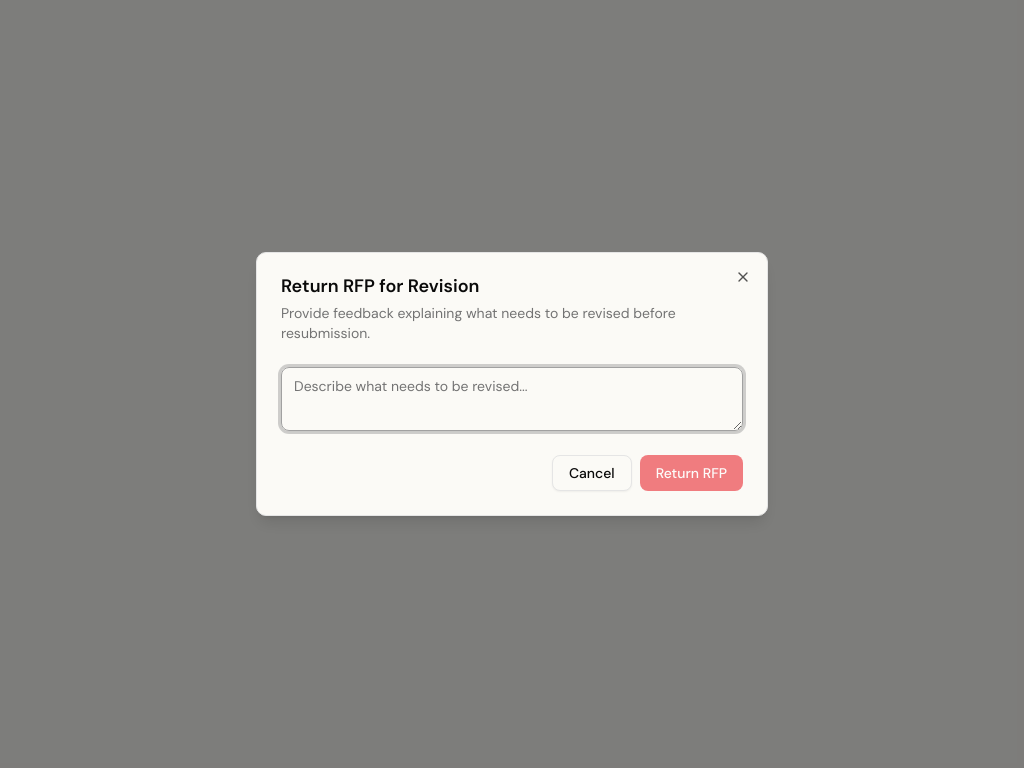
Test: ReturnComments › validation › submit button is enabled after typing comments
Type "Needs more detail" into the text box with test id "return-comments-input" at (512, 399), box [281,367,743,431]
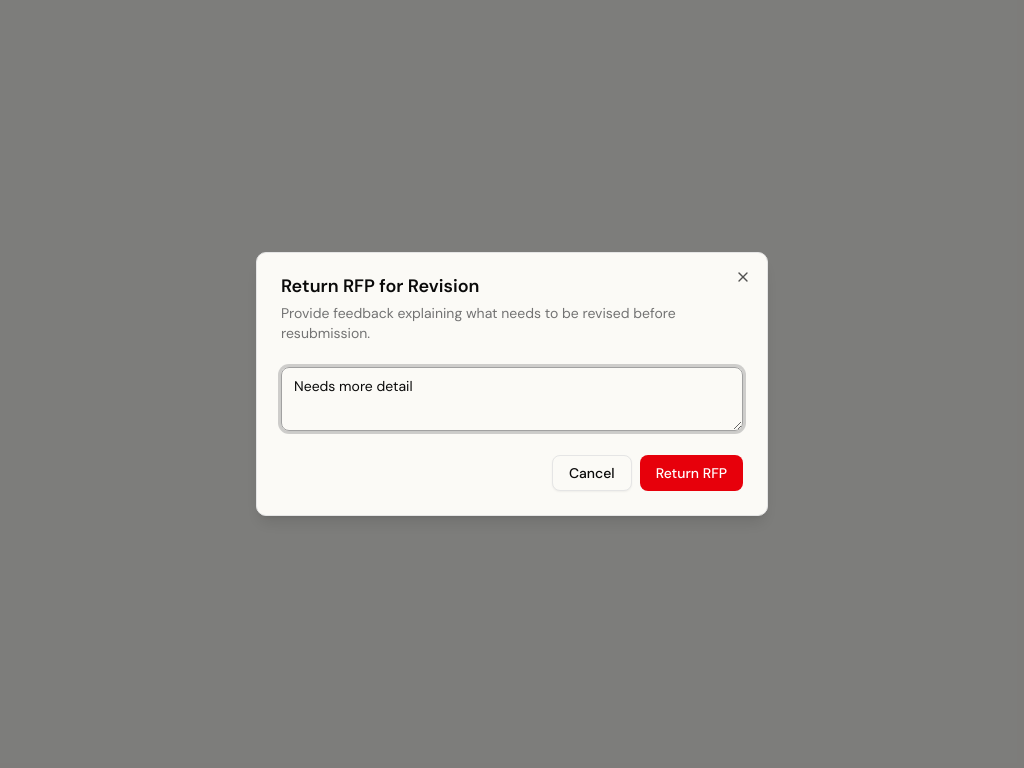
Expected: the button with test id "return-comments-submit" is enabled, [640,455,743,491]
